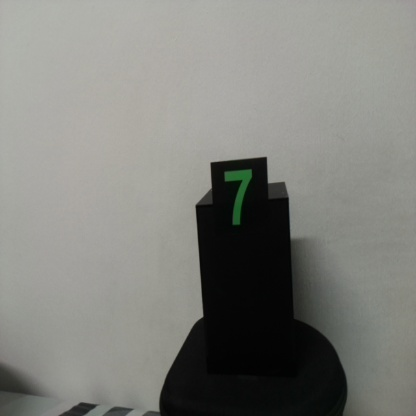id_7: (209, 161, 268, 246)
